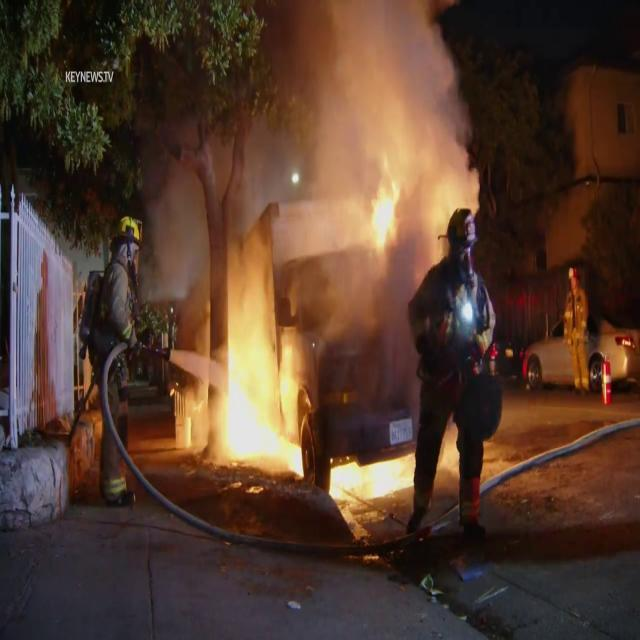Fire: (192, 295, 310, 477), (366, 172, 406, 251)
Smoke: (140, 0, 478, 307)
